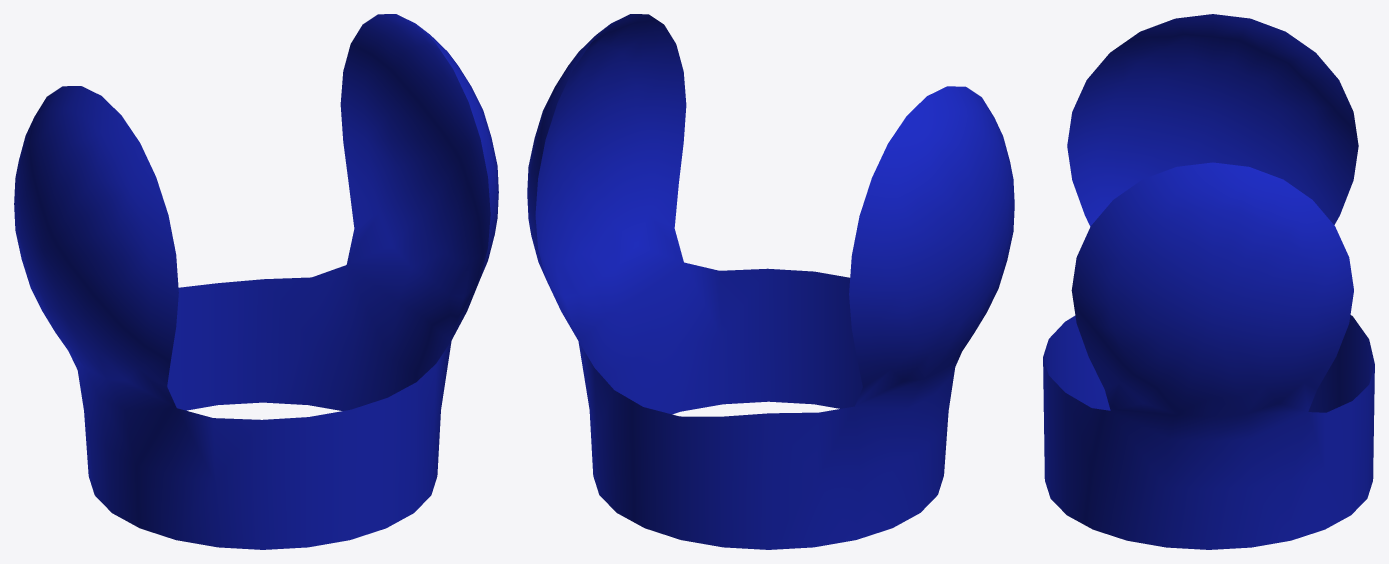
File: l_shoulder_pitch_link.obj
The picture shows the model from 3 angles, left to right: view 1: azimuth 30°, elevation 25°; view 2: azimuth 150°, elevation 25°; view 3: azimuth 270°, elevation 25°; orthographic projection. The views are drawn at different scales.
Bounding box in the file's own units: 0.0447 × 0.0419 × 0.032.
